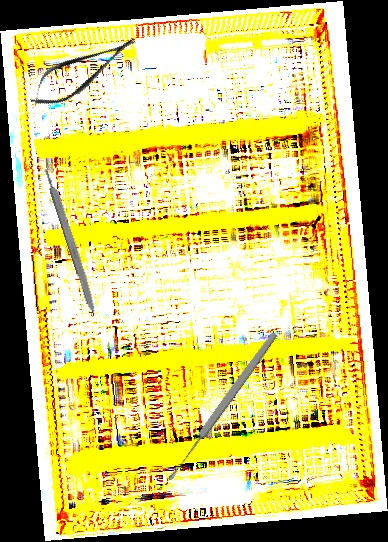Micro Scissor: (21, 25, 145, 117)
Scalpel Handle: (42, 166, 101, 318)
Surgical Spoon: (164, 330, 280, 483)
